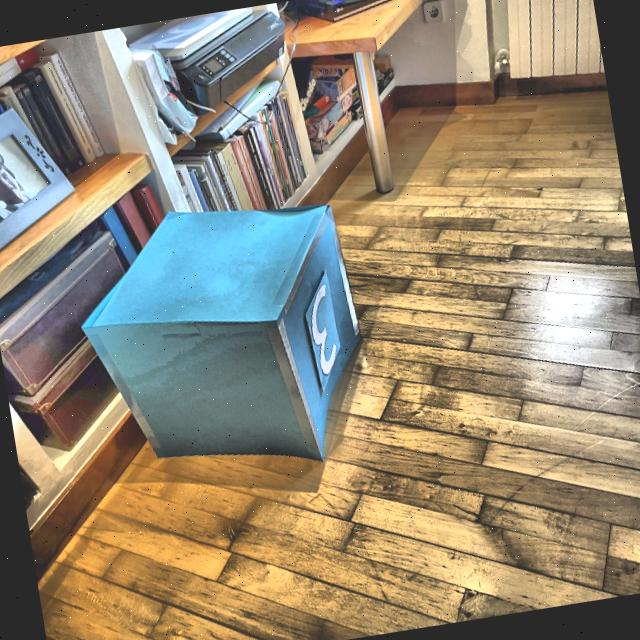blue box: (73, 180, 387, 493)
three: (300, 284, 346, 380)
